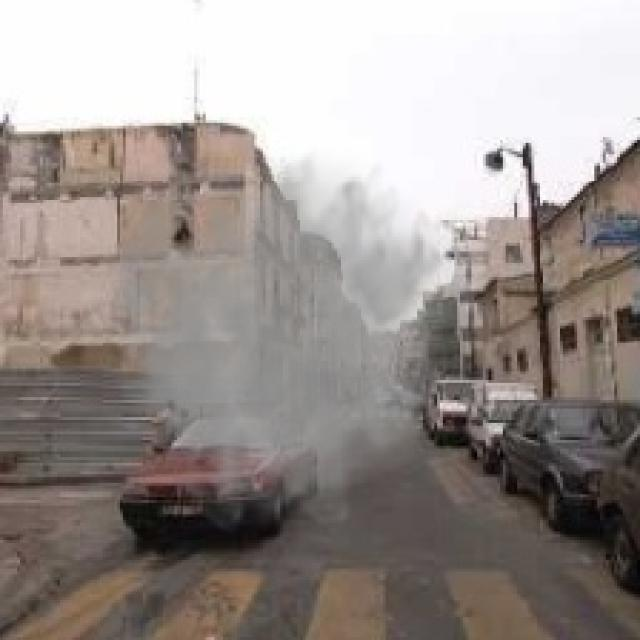Smoke: (80, 145, 457, 538)
